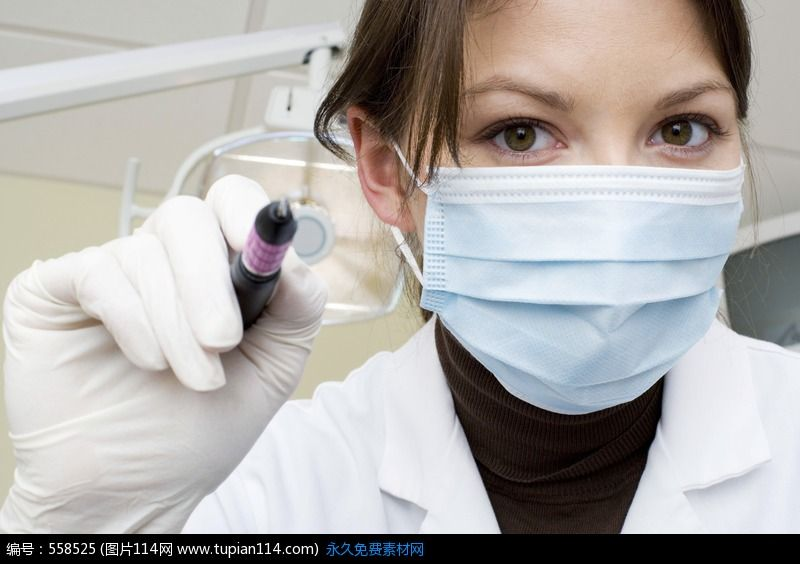mask: (416, 167, 743, 419)
